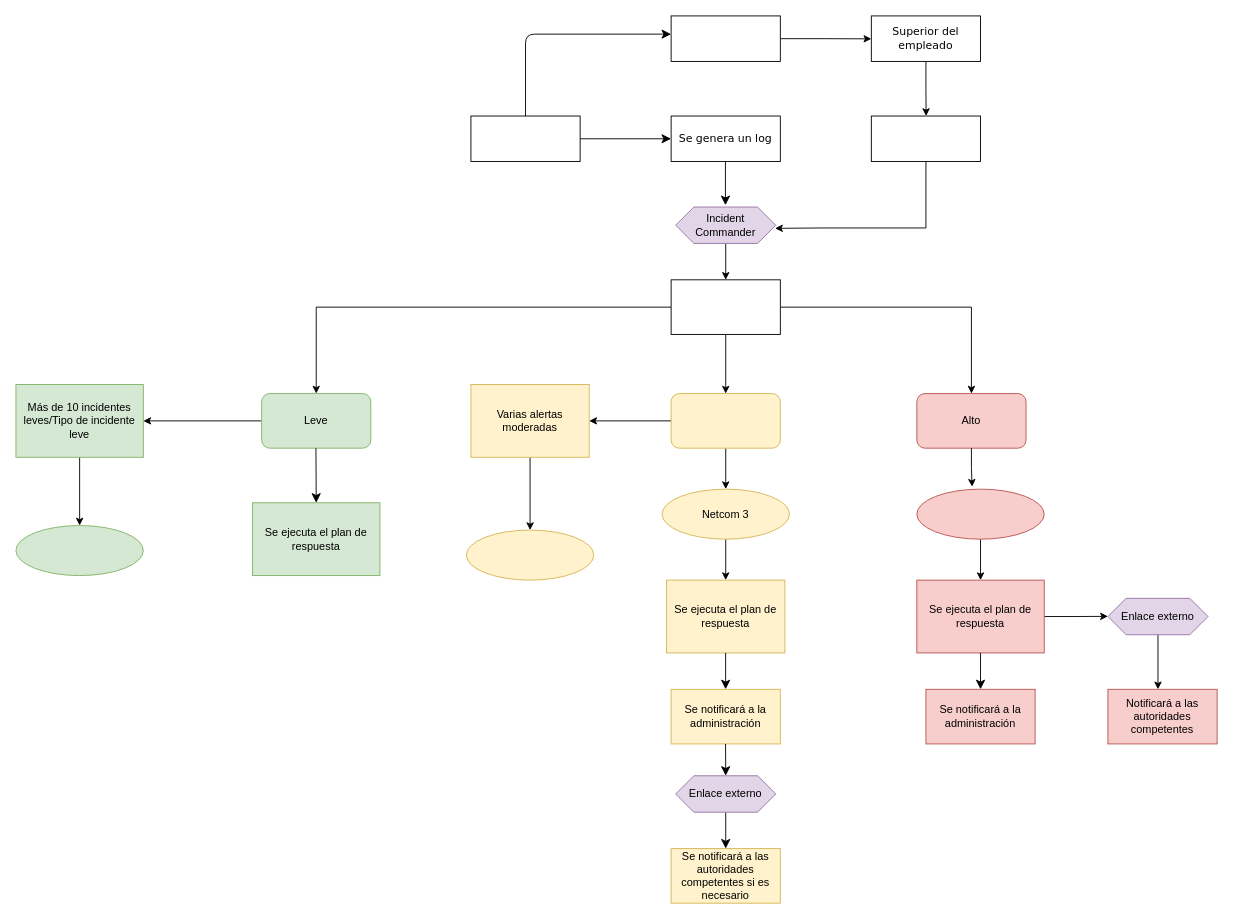
This 1233x919 diagram has some shape labels left out. The shapes that lost their labels are listed below. From the top down, each one's centre as x and y in pixels, then its label:
the point at 725,38: El empleado notifica a su superior
the point at 525,138: Se produce el incidente
the point at 925,138: Se genera un ticket
the point at 725,306: El equipo de respuesta evalúa el incidente junto al Incident Commander
the point at 725,420: Medio
the point at 980,513: Netcom 1
the point at 79,550: Netcom 4
the point at 529,554: Netcom 2
